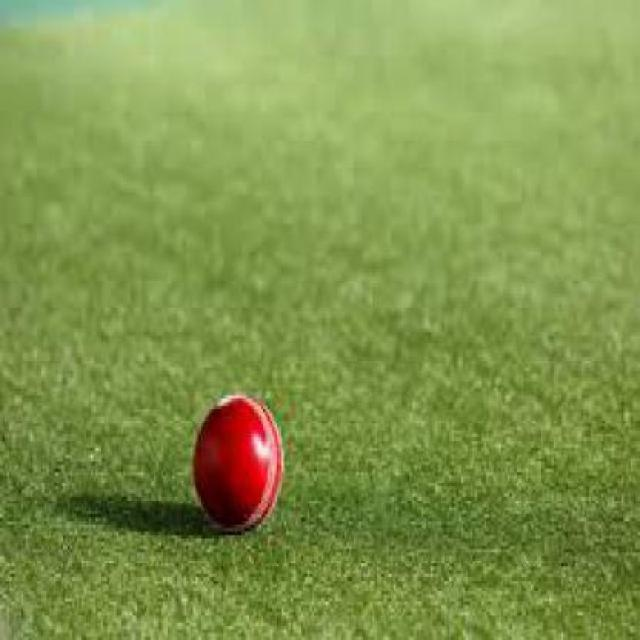ball: (168, 362, 308, 555)
